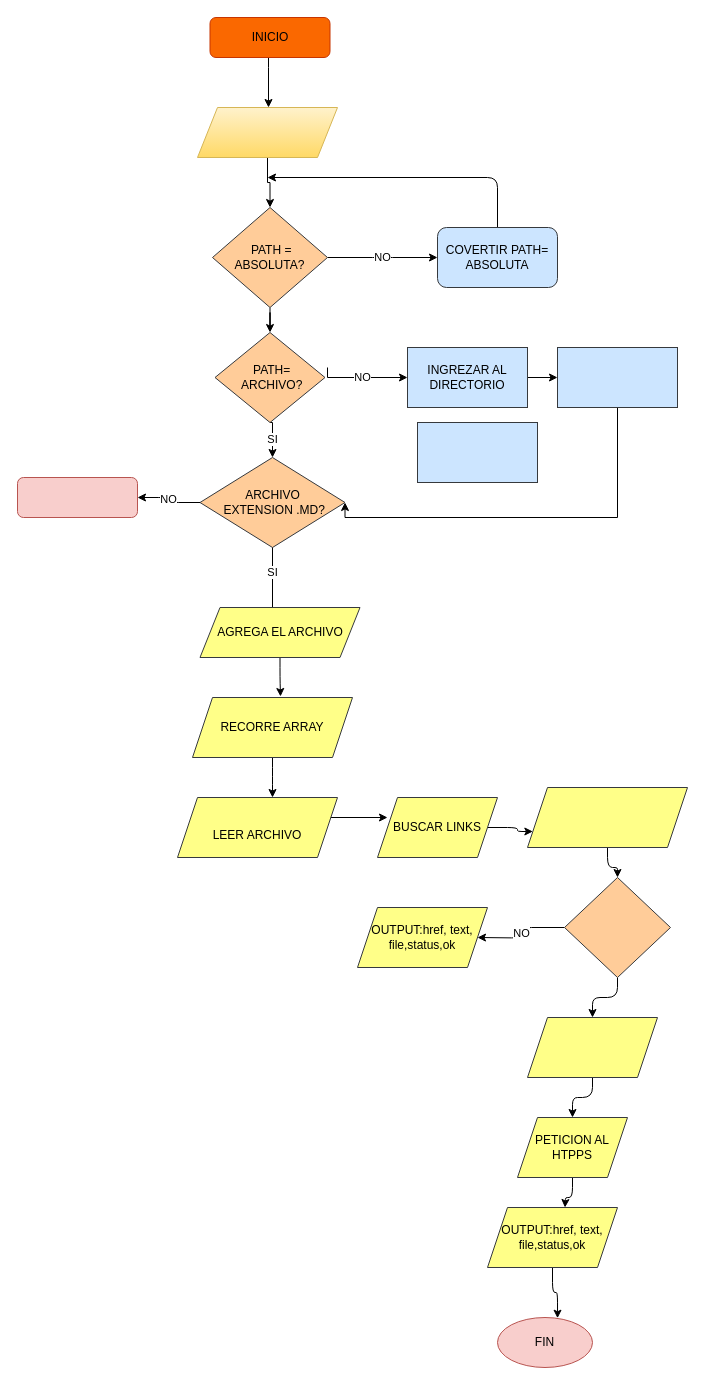
Image size: 705x1385. Some labels were removed from this diagram. The centre of each missing label's shape, as x and y in pixels:
ALMACENAR EN UN ARRAY: point (607, 817)
LEER EL DIRECTORIO: point (477, 452)
LEER PATH (RUTA): point (267, 132)
MOSTRAR MENSAJE: point (77, 497)
RECORRER EL ARRAY DE LINKS: point (592, 1047)
RECORRER EL DIRECTORIO: point (617, 377)
VALIDATE=TRUE: point (617, 927)
